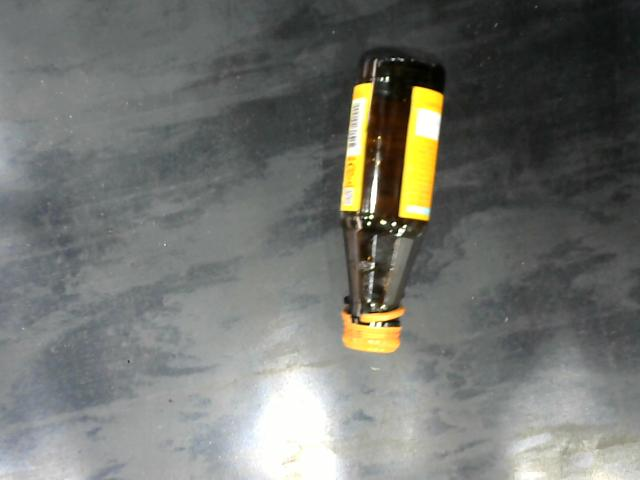glass: (336, 45, 449, 356)
